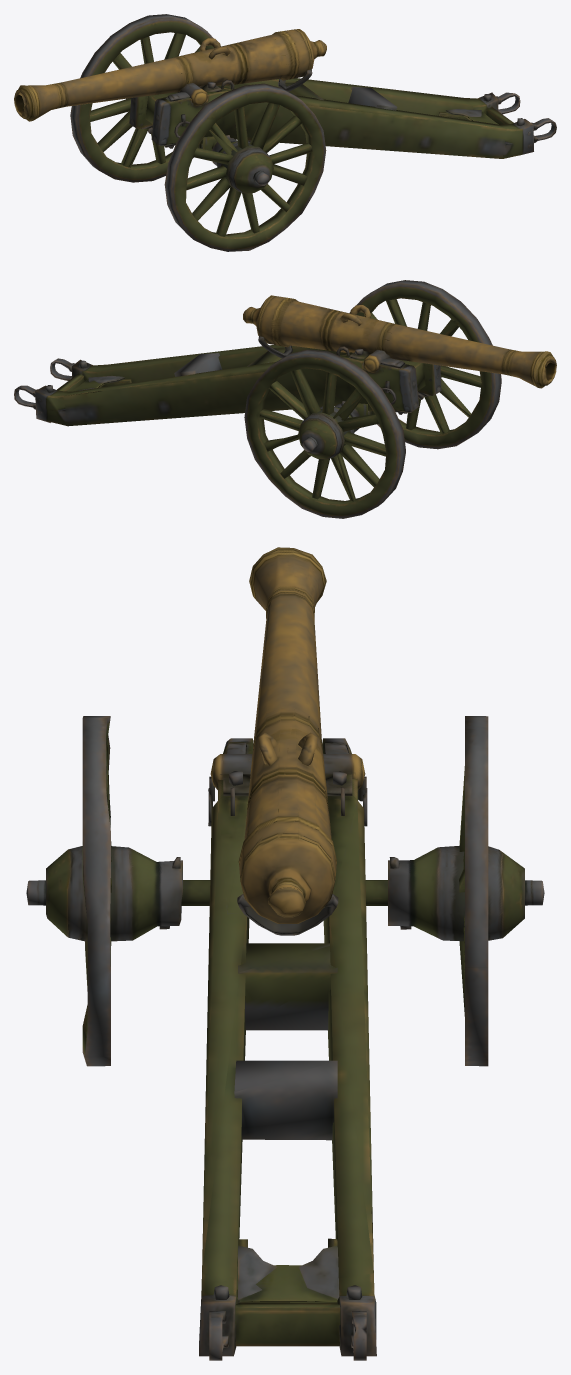
The model's file is canon-gribeauval.glb.
3 renders of one model, top to bottom at view 1: azimuth 30°, elevation 25°; view 2: azimuth 150°, elevation 25°; view 3: azimuth 270°, elevation 25°, orthographic. The views are drawn at different scales.
Parts seen in each view (by area): view 1: geometry_0; view 2: geometry_0; view 3: geometry_0.
Part boxes in pixels (<box>): geometry_0: <box>14,14,556,251</box>; geometry_0: <box>14,280,556,518</box>; geometry_0: <box>26,547,544,1360</box>.
Size of the model in its own units: 0.9546 by 0.3042 by 0.4136.
1 material, 1 textured.
